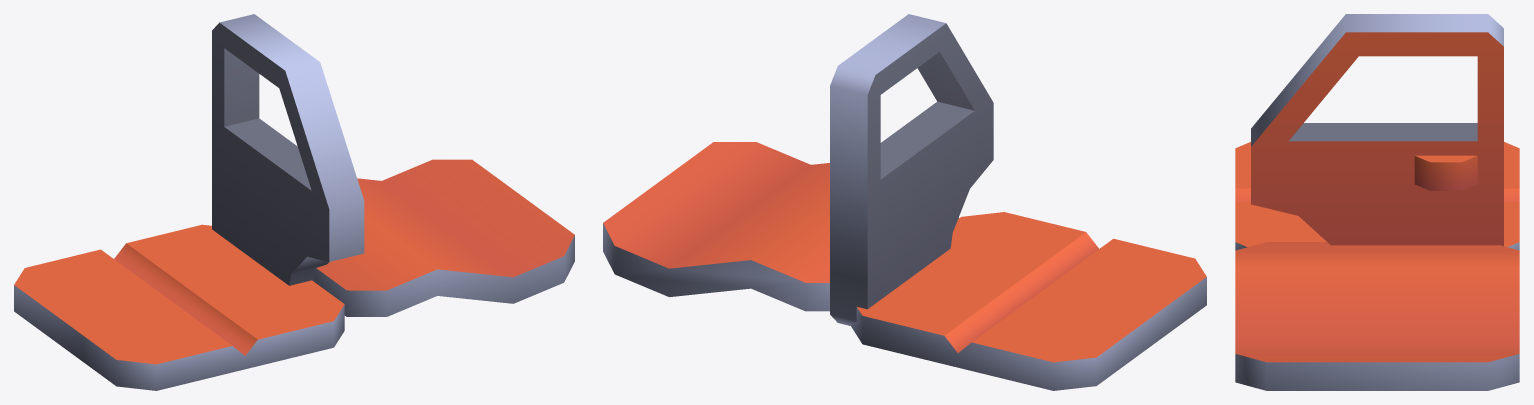
File: scrap-wall.glb
3 renders of one model, left to right at view 1: azimuth 30°, elevation 25°; view 2: azimuth 150°, elevation 25°; view 3: azimuth 270°, elevation 25°, orthographic. The views are drawn at different scales.
Visible parts, largest first — view 1: debris-plate-a, debris-door, debris-plate-b; view 2: debris-plate-a, debris-door, debris-plate-b; view 3: debris-plate-b, debris-door, debris-plate-a.
Part boxes in pixels (x1,y1,x2,y2): debris-plate-a: (14,224,344,390); debris-door: (212,14,364,285); debris-plate-b: (314,159,574,316); debris-plate-a: (851,212,1206,390); debris-door: (830,14,993,325); debris-plate-b: (603,142,958,311); debris-plate-b: (1235,242,1519,390); debris-door: (1251,14,1503,246); debris-plate-a: (1235,142,1519,250).
Size of the model in its own units: 1.81 by 0.9 by 0.9.
1 material, 1 textured.
